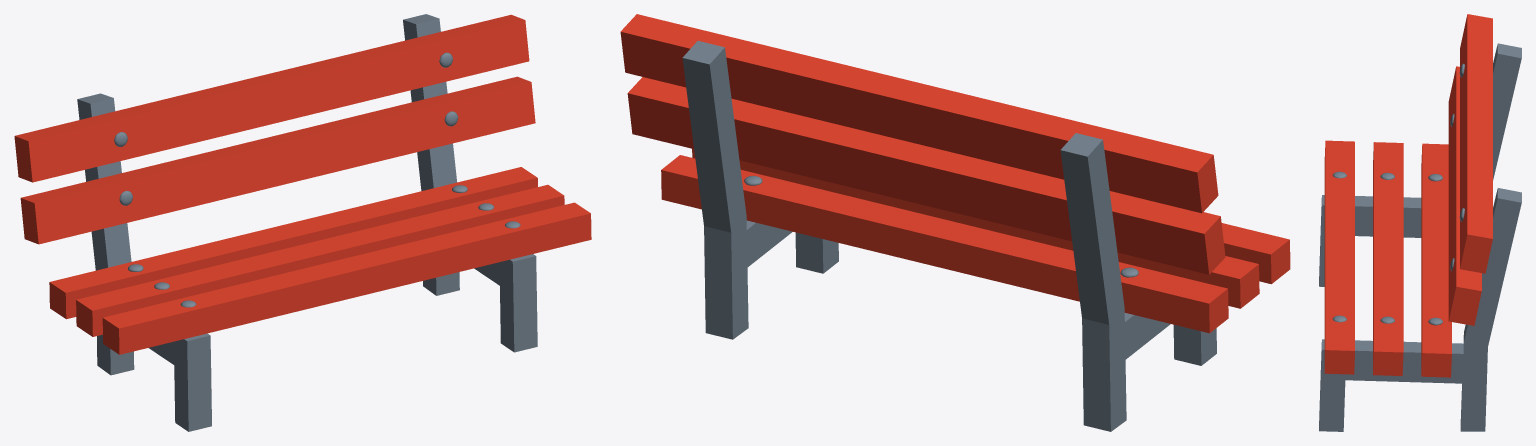
Rendered from BenchExport.fbx.
3 renders of one model, left to right at view 1: azimuth 30°, elevation 25°; view 2: azimuth 150°, elevation 25°; view 3: azimuth 270°, elevation 25°, orthographic. The views are drawn at different scales.
Parts seen in each view (by area): view 1: PagkaiPlati, PagkakiKathisma, Cube.002, Bolt.002, Bolt.001; view 2: PagkaiPlati, PagkakiKathisma, Cube.002; view 3: PagkakiKathisma, Cube.002, PagkaiPlati, Bolt.001.
Part boxes in pixels (x1=…): PagkaiPlati: x1=14, y1=14, x2=535, y2=244; PagkakiKathisma: x1=49, y1=167, x2=591, y2=354; Cube.002: x1=77, y1=14, x2=537, y2=431; Bolt.002: x1=114, y1=52, x2=458, y2=205; Bolt.001: x1=128, y1=185, x2=520, y2=307; PagkaiPlati: x1=620, y1=14, x2=1225, y2=274; PagkakiKathisma: x1=661, y1=149, x2=1290, y2=333; Cube.002: x1=682, y1=41, x2=1216, y2=431; PagkakiKathisma: x1=1324, y1=140, x2=1451, y2=377; Cube.002: x1=1319, y1=43, x2=1521, y2=431; PagkaiPlati: x1=1448, y1=14, x2=1492, y2=325; Bolt.001: x1=1332, y1=171, x2=1442, y2=325.
Bounding box in the file's own units: 400 × 198 × 155.
